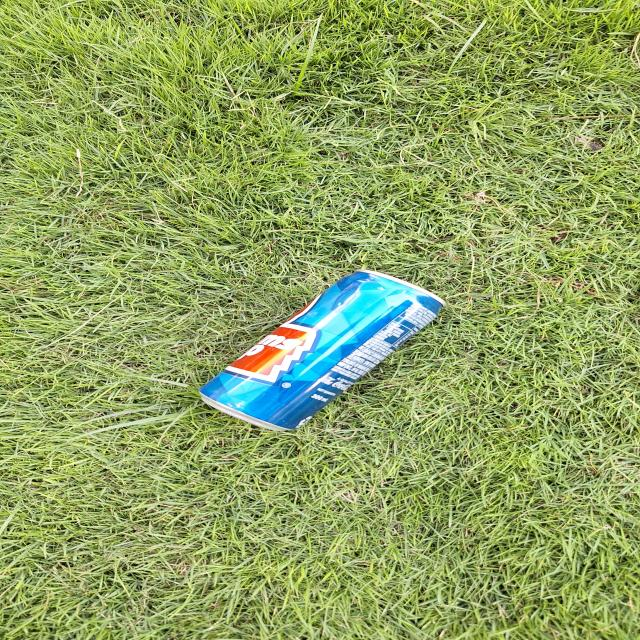Thums Up: (190, 262, 452, 434)
